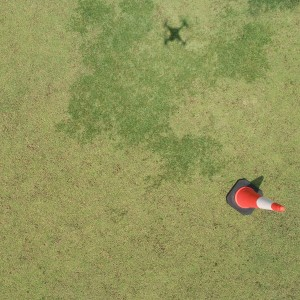traffic cone: (226, 178, 286, 215)
